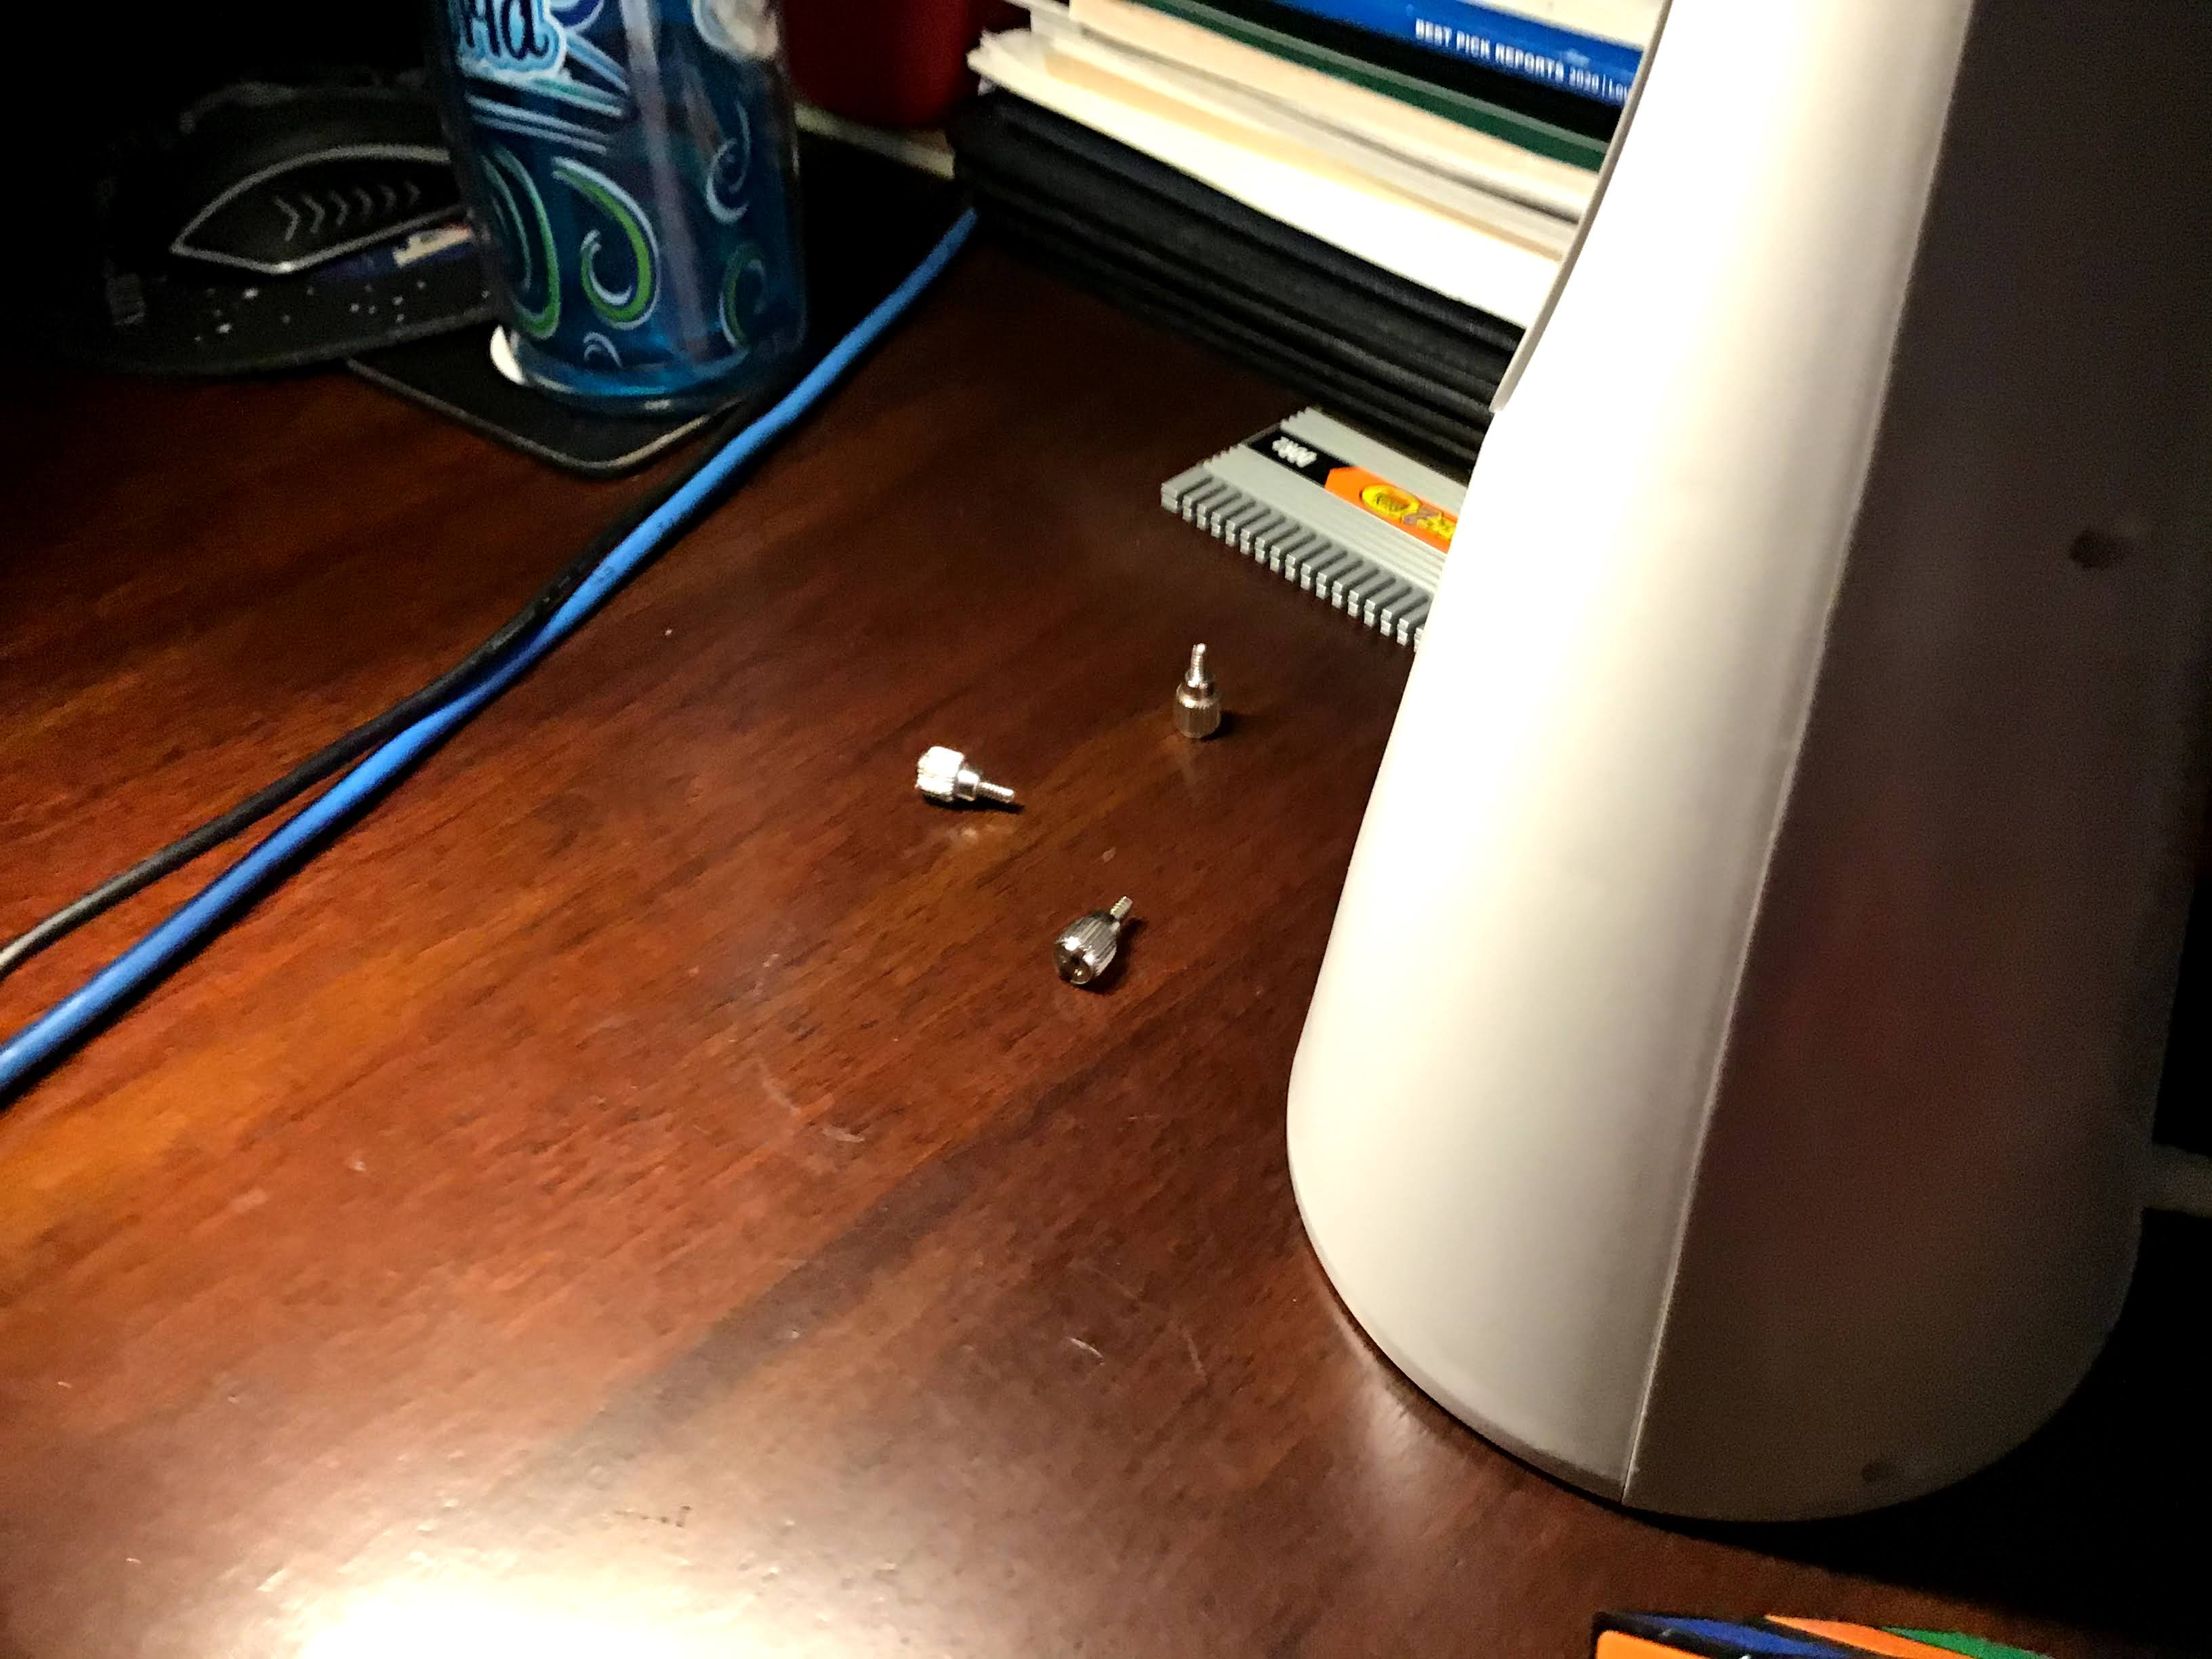Space-debris-medium: (1150, 355, 1474, 643)
Space-debris-small: (1049, 890, 1143, 990), (909, 741, 1022, 817), (1170, 641, 1226, 744)
